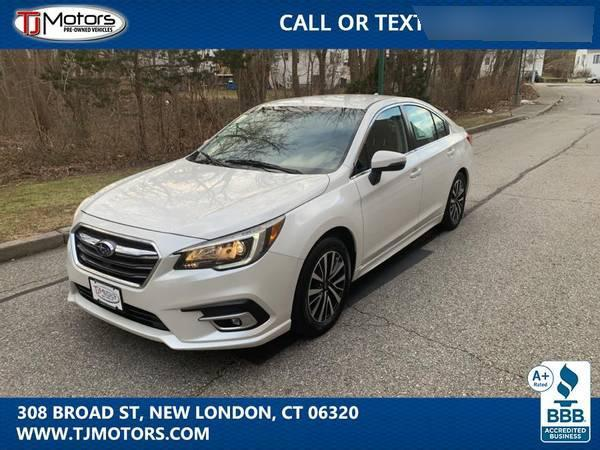Front_Bumper: (67, 246, 304, 350)
Front_Fender: (270, 168, 363, 284)
Front_Left_Door: (353, 151, 422, 276)
Front_Left_Window: (350, 105, 413, 178)
Front_Windshield: (189, 107, 367, 176)
Grille: (68, 224, 157, 292)
Hood: (74, 160, 327, 253)
Left_Headlight: (170, 213, 284, 274)
Rear_Fender: (450, 130, 472, 173)
Rear_Left_Door: (415, 139, 461, 239)
Rear_Left_Window: (401, 105, 451, 152)
Roof: (258, 94, 462, 179)
Wheel: (297, 242, 352, 336), (448, 174, 467, 223)
